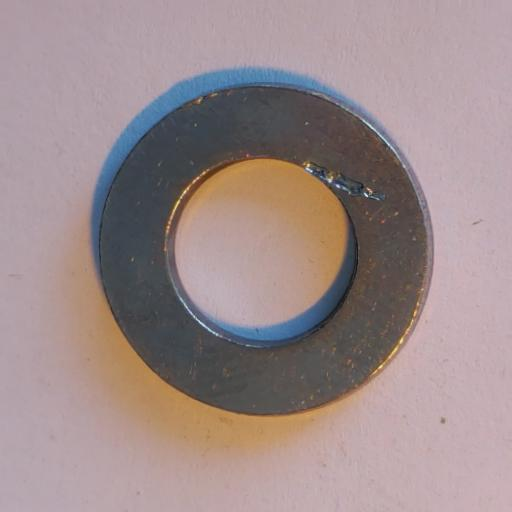scratch: (301, 159, 387, 203)
